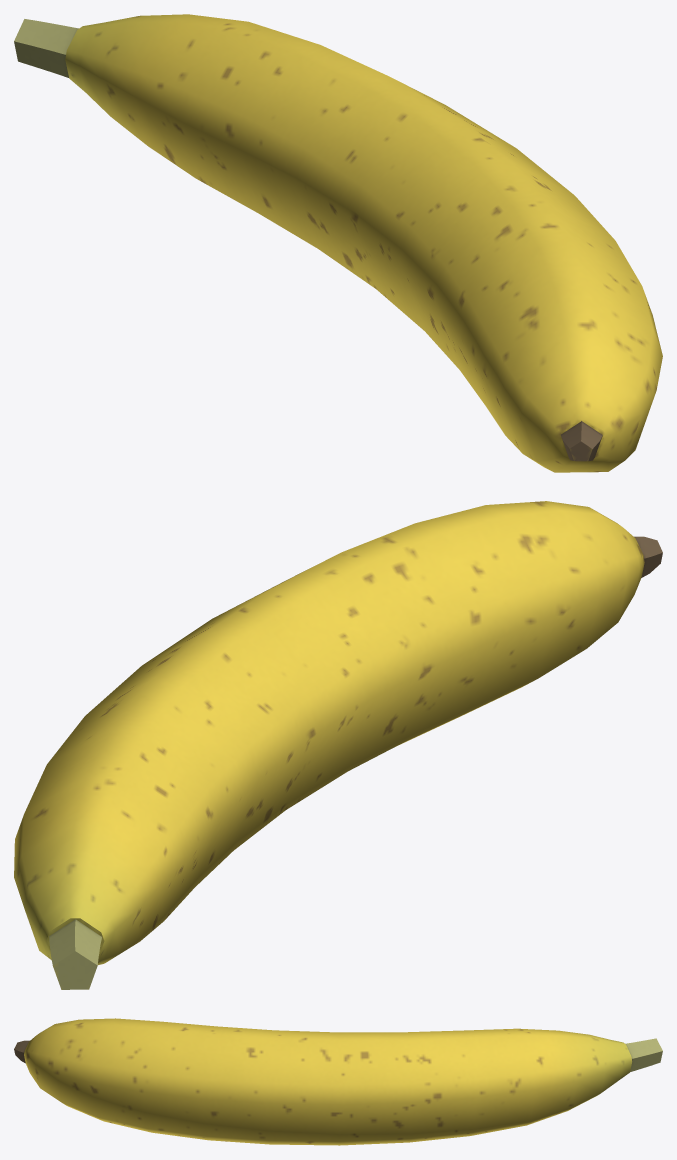
File: banana.glb
The picture shows the model from 3 angles, top to bottom: view 1: azimuth 30°, elevation 25°; view 2: azimuth 150°, elevation 25°; view 3: azimuth 270°, elevation 25°; orthographic projection. The views are drawn at different scales.
Visible parts, largest first — view 1: x2_banana; view 2: x2_banana; view 3: x2_banana.
Part boxes in pixels (x1,y1,x2,y2): x2_banana: (14,14,662,472); x2_banana: (14,501,662,989); x2_banana: (14,1018,662,1145).
Bounding box in the file's own units: 0.0302 × 0.0207 × 0.1226.
Materials: 1 (1 with a texture image).
